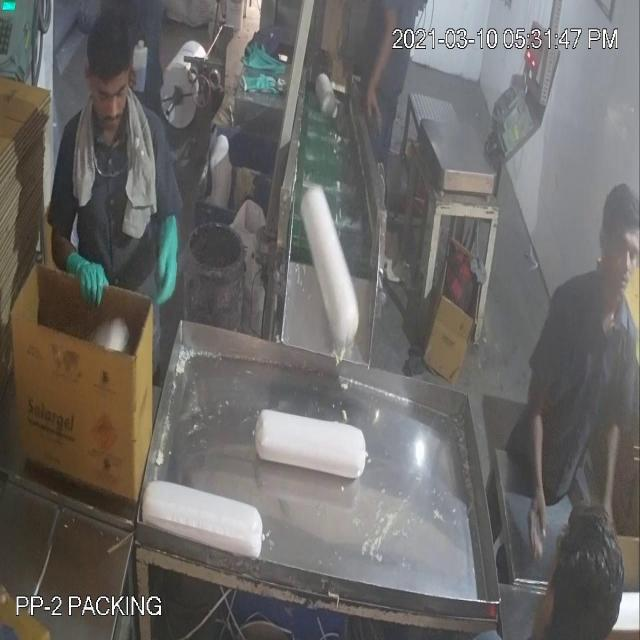No_Gloves: (31, 68, 608, 486)
